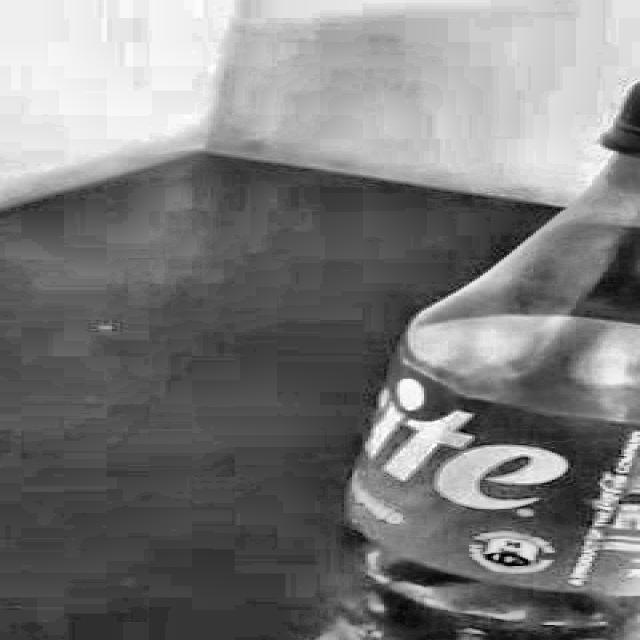bottle: (319, 83, 640, 640)
